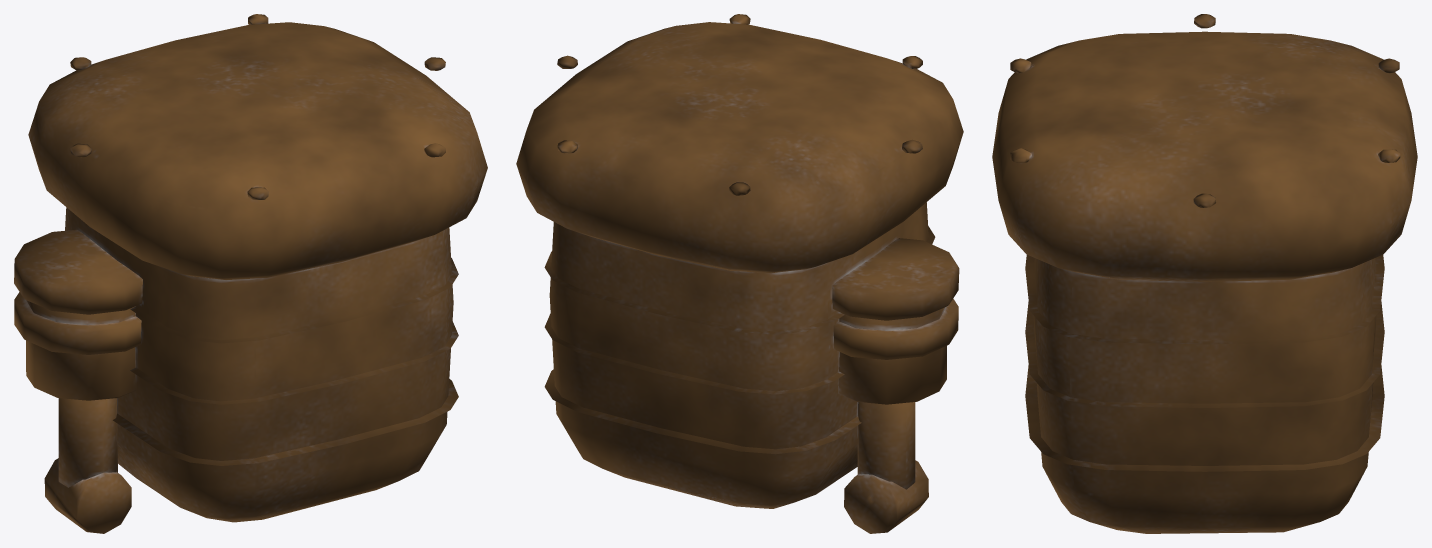
The model's file is MatonImp_BrazoArriba_Bronce.fbx.
The picture shows the model from 3 angles, left to right: view 1: azimuth 30°, elevation 25°; view 2: azimuth 150°, elevation 25°; view 3: azimuth 270°, elevation 25°; orthographic projection. The views are drawn at different scales.
Parts seen in each view (by area): view 1: MatonImp_BrazoArriba_Bronce; view 2: MatonImp_BrazoArriba_Bronce; view 3: MatonImp_BrazoArriba_Bronce.
Part boxes in pixels (x1=…): MatonImp_BrazoArriba_Bronce: x1=14, y1=14, x2=487, y2=533; MatonImp_BrazoArriba_Bronce: x1=516, y1=14, x2=963, y2=533; MatonImp_BrazoArriba_Bronce: x1=992, y1=14, x2=1417, y2=533.
Bounding box in the file's own units: 1.74 × 1.62 × 1.5.
